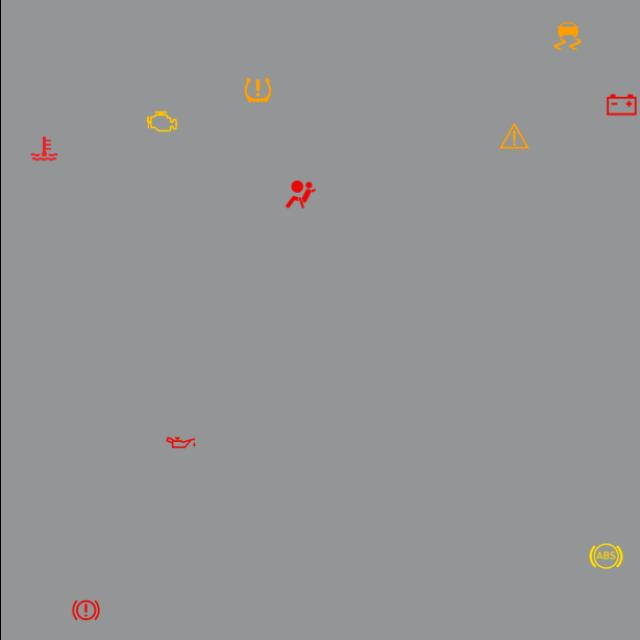Anti Lock Braking System: (587, 538, 623, 574)
Braking System Issue: (67, 592, 103, 628)
Charging System Issue: (602, 87, 638, 123)
Check Engine: (143, 104, 179, 140)
Electronic Stability Problem -ESP-: (548, 18, 584, 54)
Engine Overheating Warning Light: (26, 130, 61, 166)
Low Engine Oil Warning Light: (162, 424, 198, 460)
Low Tire Pressure Warning Light: (239, 72, 275, 108)
Master warning light: (496, 118, 532, 154)
SRS-Airbag: (282, 176, 318, 212)
